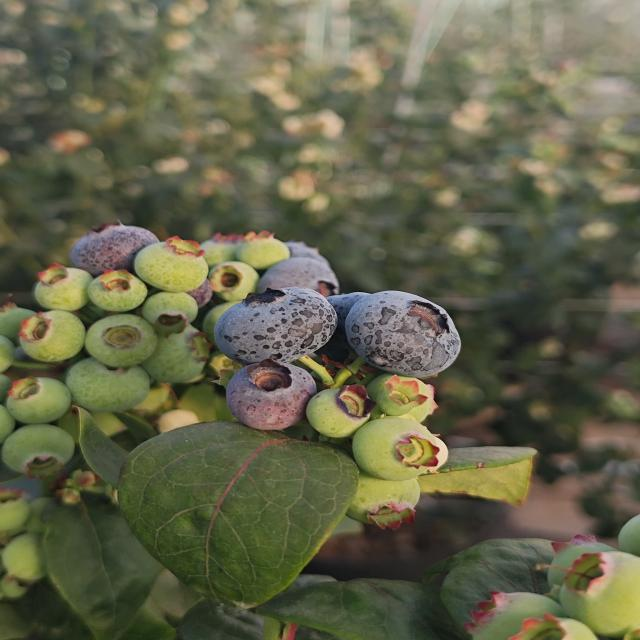ripe: (342, 288, 463, 379), (211, 285, 339, 366), (223, 359, 318, 432), (304, 288, 375, 365), (261, 233, 339, 296), (62, 223, 146, 262)
